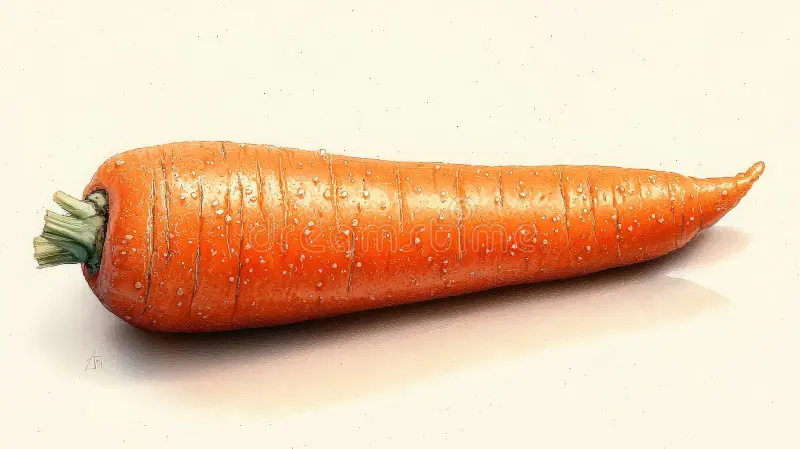carrot: (36, 126, 769, 335)
